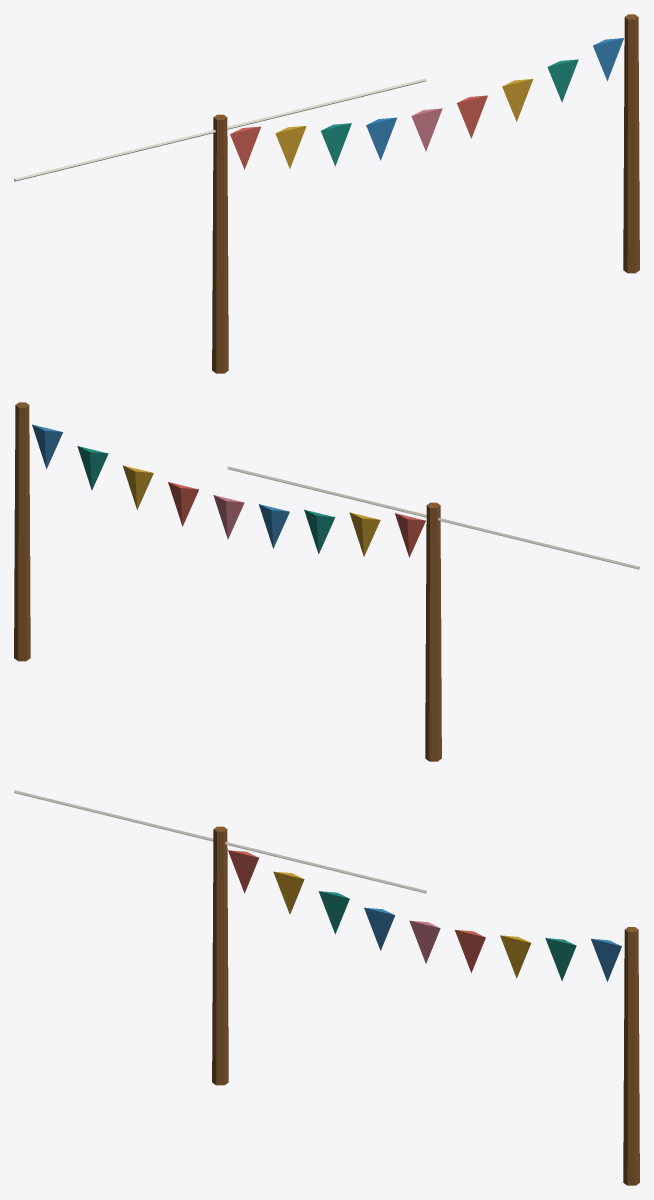
Rendered from bunting.glb.
3 views of the same model, one above another, from view 1: azimuth 30°, elevation 25°; view 2: azimuth 150°, elevation 25°; view 3: azimuth 330°, elevation 25° (orthographic).
Parts seen in each view (by area): view 1: decor-bunting; view 2: decor-bunting; view 3: decor-bunting.
Part boxes in pixels (<box>): decor-bunting: <box>14,14,639,373</box>; decor-bunting: <box>14,402,639,761</box>; decor-bunting: <box>14,790,639,1185</box>.
Size of the model in its own units: 5.15 by 2 by 0.1201.
